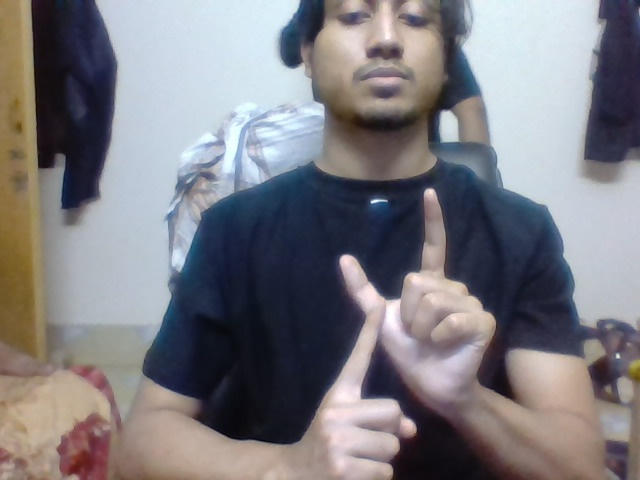Y: (331, 186, 453, 386)
